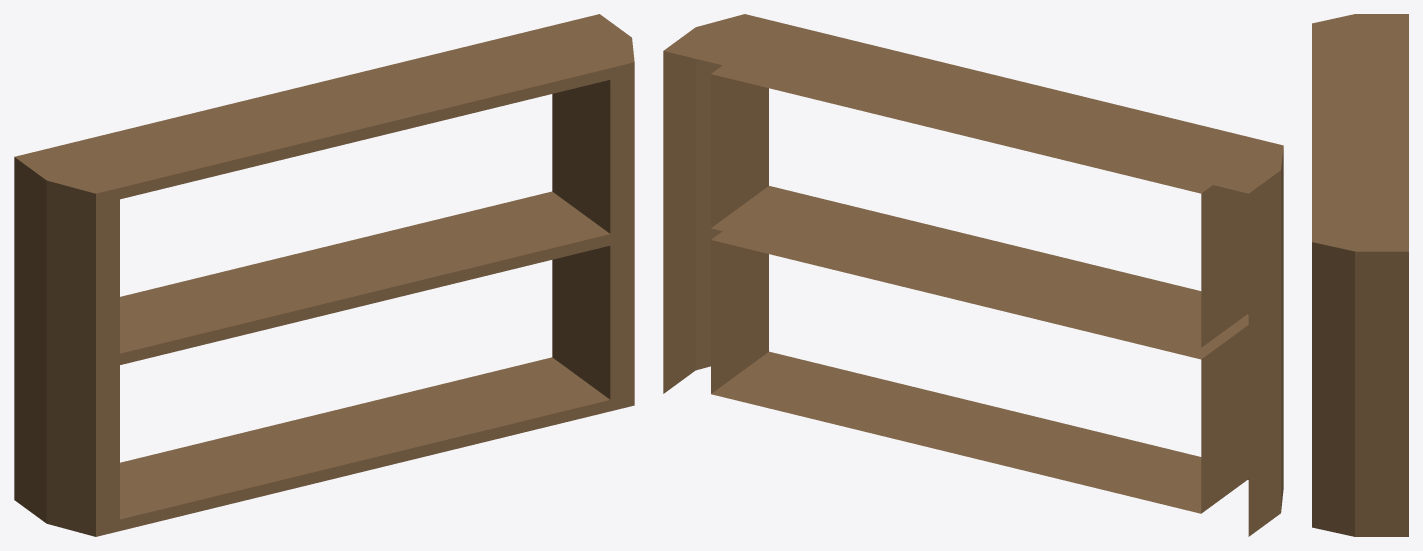
Rendered from bar_shelf.fbx.
The picture shows the model from 3 angles, left to right: view 1: azimuth 30°, elevation 25°; view 2: azimuth 150°, elevation 25°; view 3: azimuth 270°, elevation 25°; orthographic projection. The views are drawn at different scales.
Visible parts, largest first — view 1: bar_shelf; view 2: bar_shelf; view 3: bar_shelf.
Part boxes in pixels (x1,y1,x2,y2): bar_shelf: (14,14,634,536); bar_shelf: (663,14,1283,536); bar_shelf: (1312,14,1408,536).
Bounding box in the file's own units: 5.81 × 3.25 × 1.
